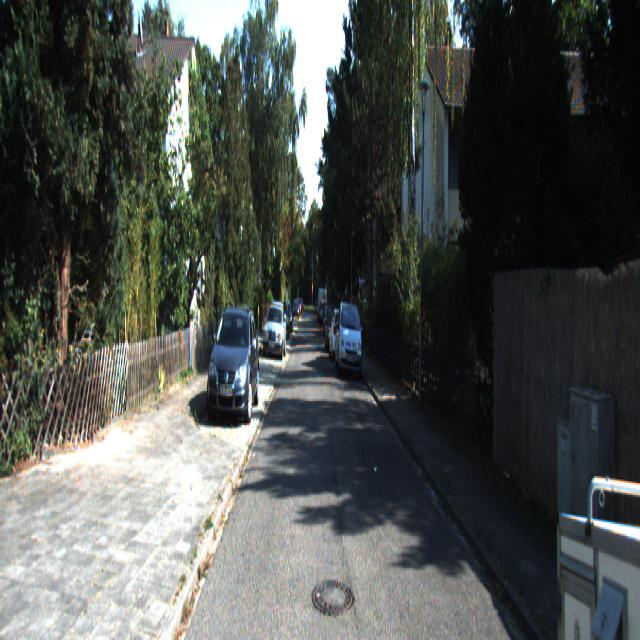Car: (550, 447, 640, 638), (206, 307, 259, 430), (336, 298, 363, 376), (262, 302, 288, 358), (329, 306, 351, 363)
